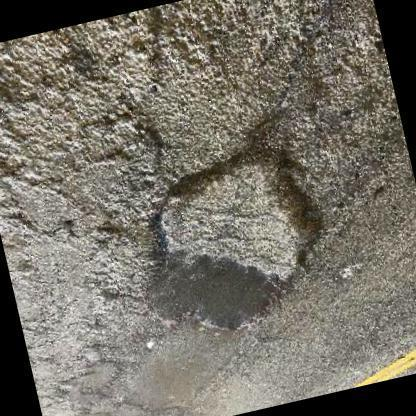pothole: (138, 138, 336, 329), (79, 335, 223, 416)
